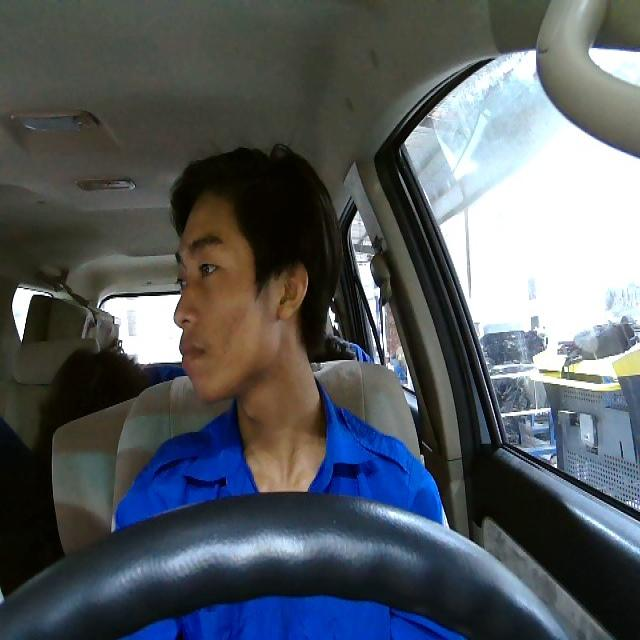seeing_left: (171, 185, 309, 403)
